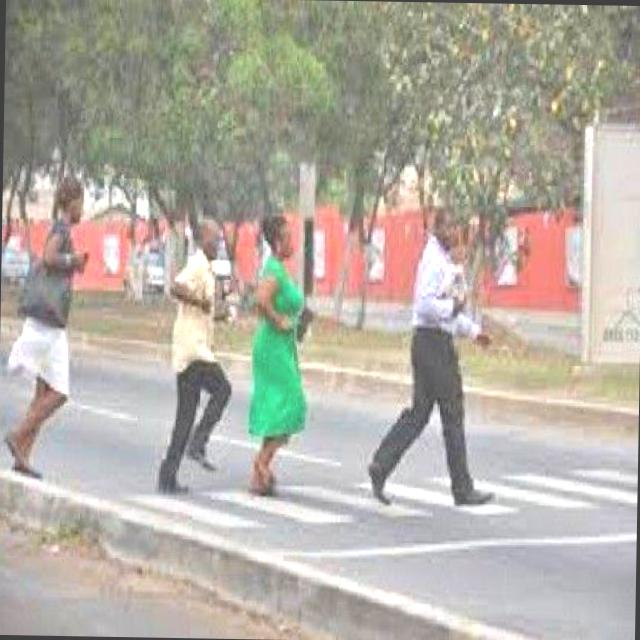Person: (364, 194, 502, 510), (3, 164, 94, 482), (158, 212, 240, 498), (245, 208, 316, 505)
